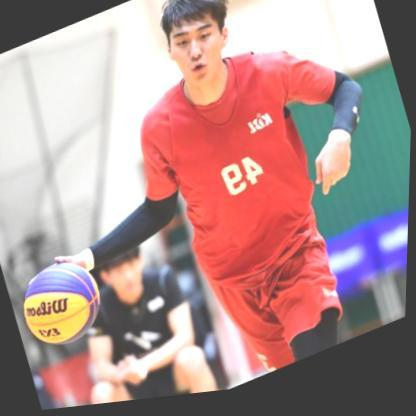basketball: (15, 249, 113, 359)
